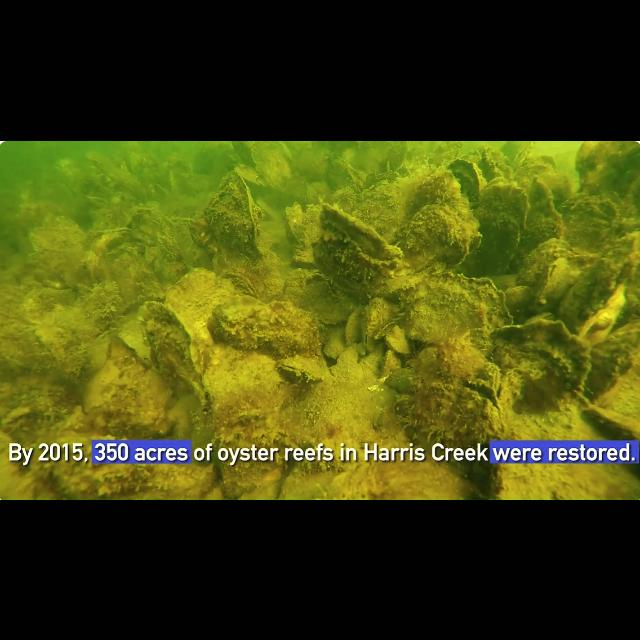Oyster-Closed: (402, 375, 511, 491), (39, 430, 217, 500), (392, 266, 514, 342), (484, 317, 594, 393), (136, 303, 206, 397), (390, 197, 474, 267), (202, 171, 266, 261), (210, 352, 286, 424), (574, 140, 640, 198), (161, 266, 231, 318), (209, 297, 279, 348), (77, 362, 129, 418), (481, 178, 531, 236), (577, 286, 627, 344), (28, 220, 88, 266), (518, 236, 578, 282), (105, 243, 158, 295), (388, 178, 469, 212), (598, 223, 640, 284), (580, 403, 640, 443), (480, 213, 518, 270), (129, 204, 173, 246), (497, 278, 541, 316), (446, 156, 482, 198), (152, 233, 188, 271), (86, 334, 114, 372), (346, 304, 368, 344), (322, 328, 348, 360), (64, 347, 84, 383), (383, 327, 413, 347)
Oyster-Open: (312, 203, 404, 293), (358, 298, 396, 352), (532, 255, 568, 307), (280, 351, 328, 383), (260, 432, 306, 463), (222, 269, 258, 301), (2, 403, 36, 431), (91, 224, 133, 242)
